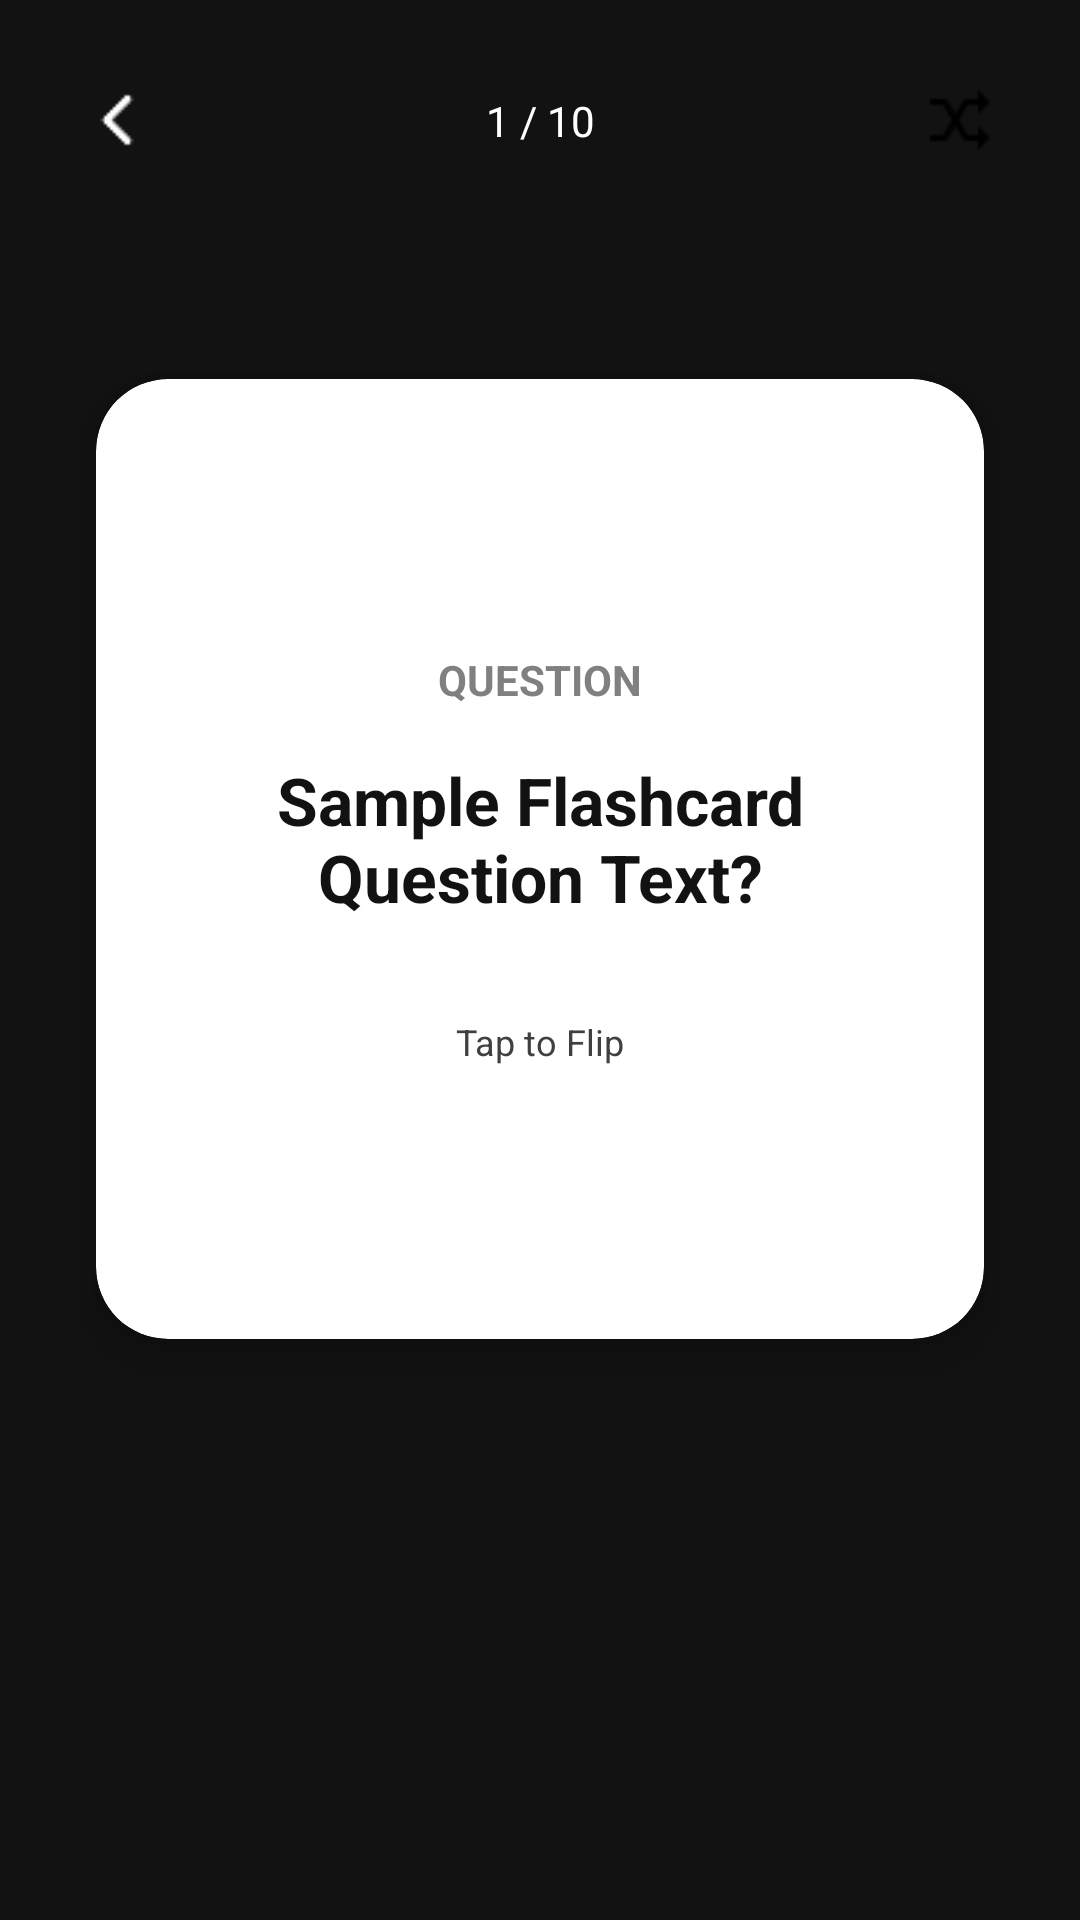

Icons on this 1080px×1920px Android screen, each with the point to tap as point (x, y):
back: point (117, 120)
